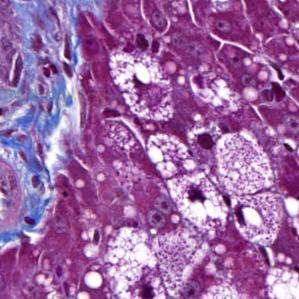ballooning: (214, 125, 287, 249), (144, 130, 230, 228), (101, 225, 172, 299), (109, 51, 176, 124)
